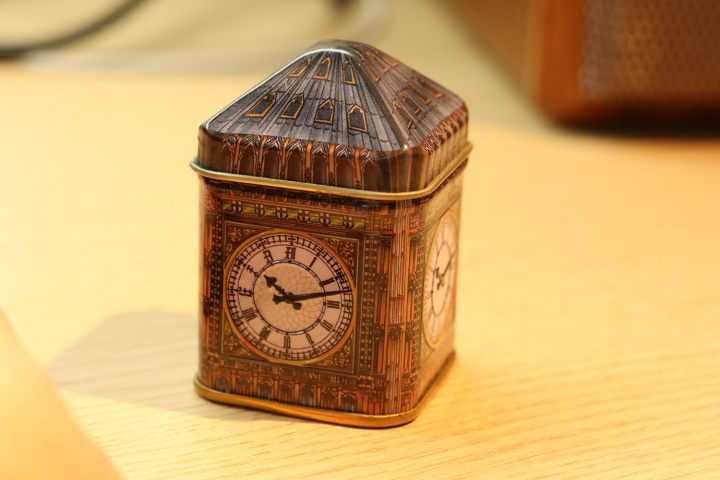Big Ben: (172, 31, 483, 443)
